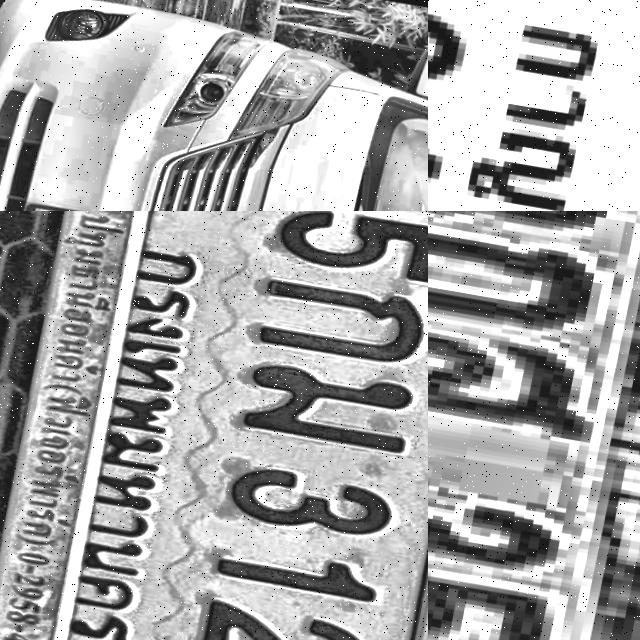license-plate: (0, 211, 428, 640), (428, 211, 640, 640), (428, 0, 640, 211)
